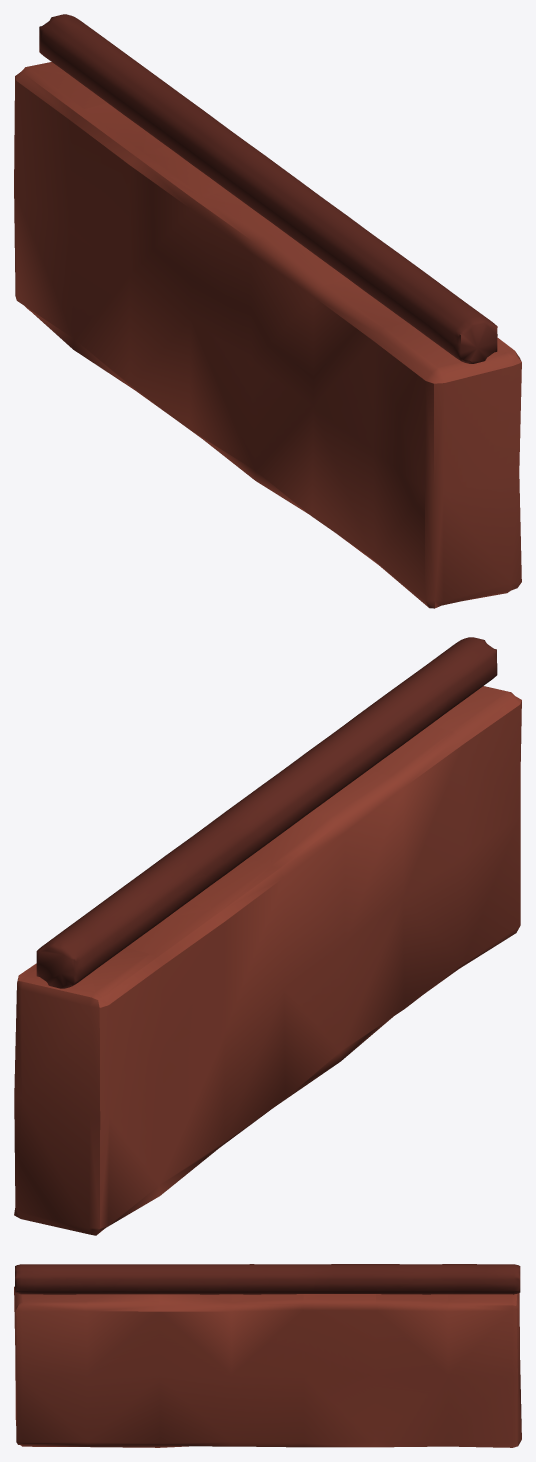
The model's file is den_bed_rail_lod1.glb.
3 views of the same model, one above another, from view 1: azimuth 30°, elevation 25°; view 2: azimuth 150°, elevation 25°; view 3: azimuth 270°, elevation 25° (orthographic). The views are drawn at different scales.
Parts seen in each view (by area): view 1: den_bed_rail.001; view 2: den_bed_rail.001; view 3: den_bed_rail.001.
Boxes of the visible parts, x1,y1,x2,y2 form: den_bed_rail.001: (14, 14, 521, 608); den_bed_rail.001: (14, 637, 521, 1235); den_bed_rail.001: (14, 1264, 521, 1447).
Size of the model in its own units: 3.2 by 9 by 24.13.
